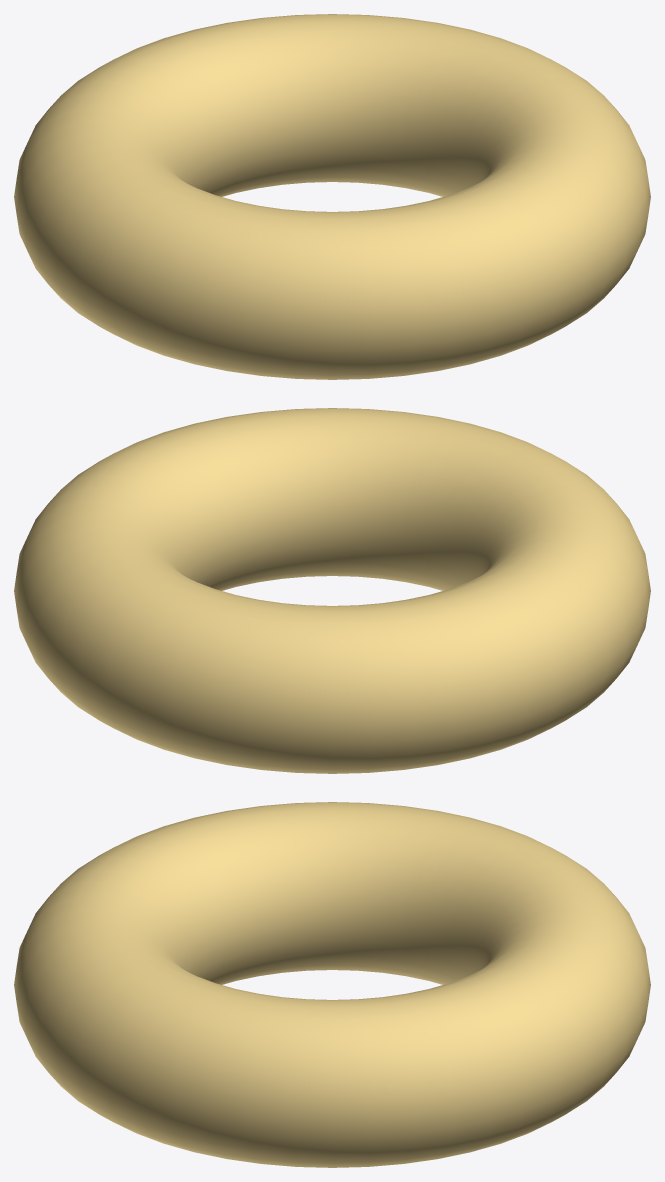
3 views of the same model, one above another, from view 1: azimuth 30°, elevation 25°; view 2: azimuth 150°, elevation 25°; view 3: azimuth 270°, elevation 25° (orthographic).
Visible parts, largest first — view 1: Torus; view 2: Torus; view 3: Torus.
Boxes of the visible parts, x1,y1,x2,y2 form: Torus: [14, 14, 650, 379]; Torus: [14, 408, 650, 773]; Torus: [14, 802, 650, 1167].
Size of the model in its own units: 1.36 by 0.36 by 1.36.
